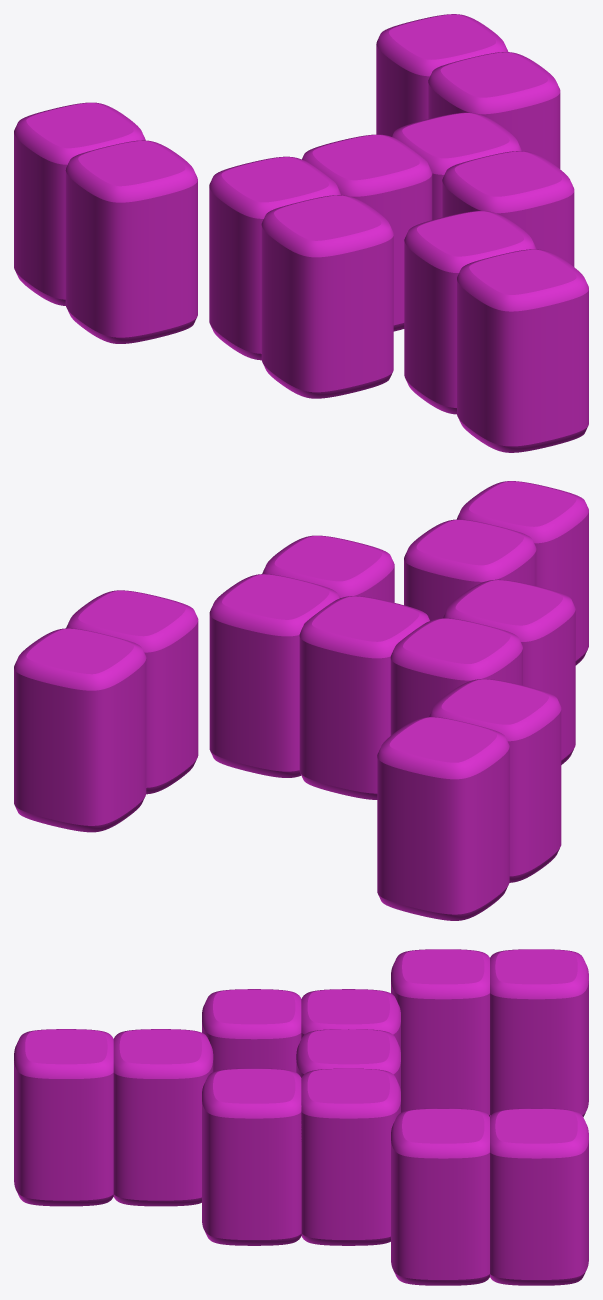
File: Letter_A.fbx
3 views of the same model, one above another, from view 1: azimuth 30°, elevation 25°; view 2: azimuth 150°, elevation 25°; view 3: azimuth 270°, elevation 25° (orthographic). The views are drawn at different scales.
Visible parts, largest first — view 1: Letter_A; view 2: Letter_A; view 3: Letter_A.
Part boxes in pixels (x1,y1,x2,y2): Letter_A: [14, 14, 588, 452]; Letter_A: [14, 481, 588, 920]; Letter_A: [14, 949, 588, 1285].
Size of the model in its own units: 0.4311 by 0.14 by 0.5146.
